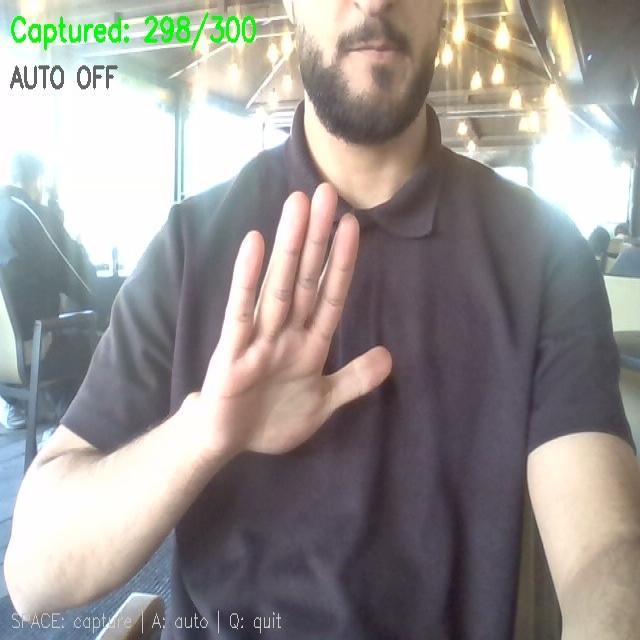Hand: (196, 184, 390, 453)
